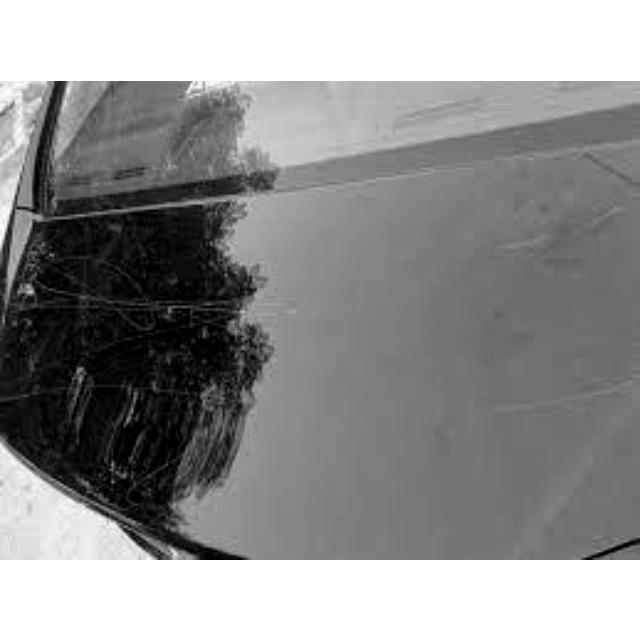Front-windscreen-damage: (3, 137, 638, 557)
